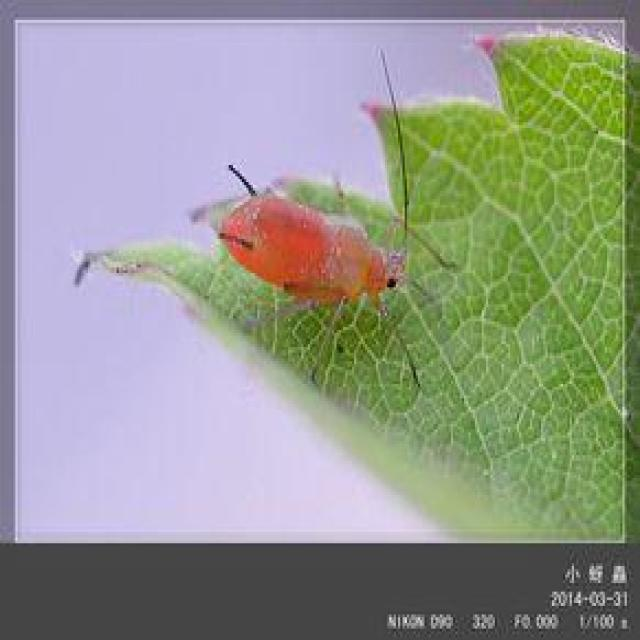Aphids: (146, 87, 505, 414)
